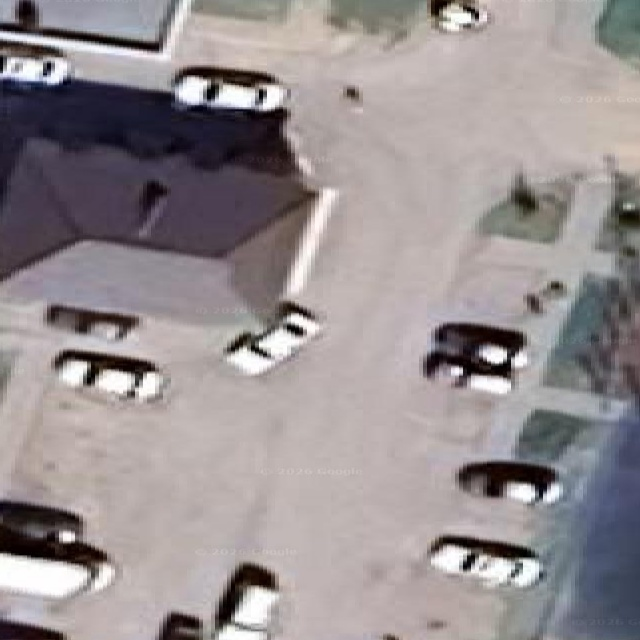car: (0, 526, 115, 599), (225, 302, 320, 375), (429, 536, 542, 587), (53, 350, 166, 401), (172, 68, 289, 112), (213, 563, 280, 639), (457, 460, 562, 504), (433, 323, 528, 369), (422, 351, 514, 394), (0, 500, 82, 543), (45, 305, 138, 340), (0, 45, 71, 86), (225, 332, 275, 375), (435, 0, 489, 32), (0, 619, 64, 639), (158, 612, 203, 639)
